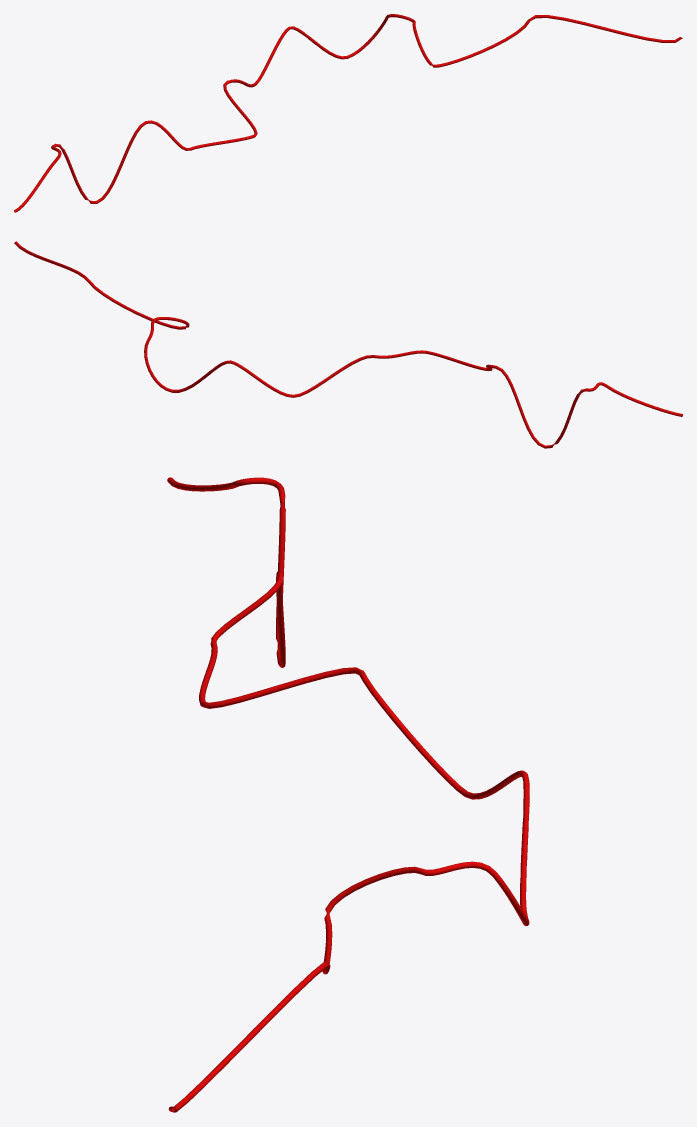
Rendered from Attic_Cable_01_LP_Splines_11.glb.
The picture shows the model from 3 angles, top to bottom: view 1: azimuth 30°, elevation 25°; view 2: azimuth 150°, elevation 25°; view 3: azimuth 270°, elevation 25°; orthographic projection. The views are drawn at different scales.
Visible parts, largest first — view 1: Attic_Cable_01_LP_Splines_11; view 2: Attic_Cable_01_LP_Splines_11; view 3: Attic_Cable_01_LP_Splines_11.
Part boxes in pixels (bbox=[...]): Attic_Cable_01_LP_Splines_11: bbox=[14, 14, 682, 212]; Attic_Cable_01_LP_Splines_11: bbox=[14, 241, 682, 448]; Attic_Cable_01_LP_Splines_11: bbox=[167, 477, 529, 1112].
Bounding box in the file's own units: 9.67 × 0.9855 × 2.27.
